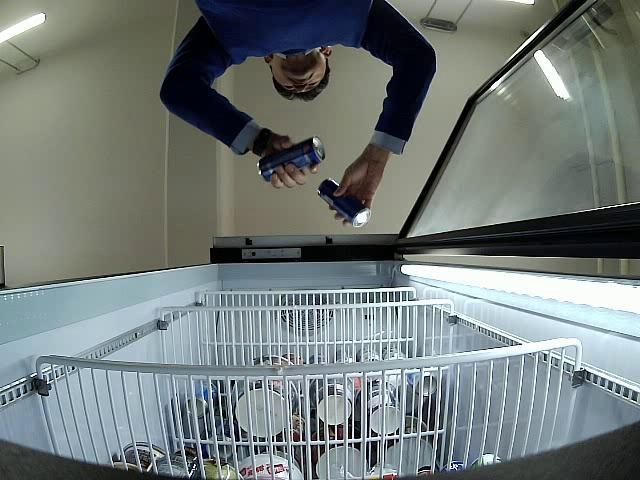16_hot6: (257, 136, 325, 182), (318, 178, 370, 226)
